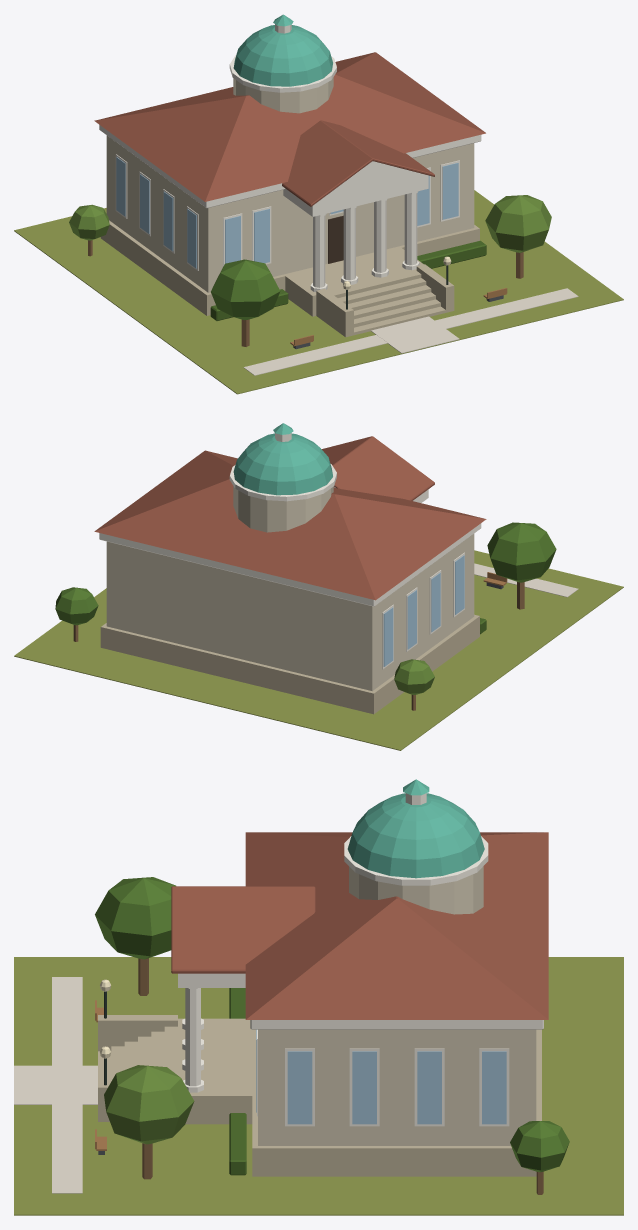
File: library.glb
The picture shows the model from 3 angles, top to bottom: view 1: azimuth 30°, elevation 25°; view 2: azimuth 150°, elevation 25°; view 3: azimuth 270°, elevation 25°; orthographic projection. The views are drawn at different scales.
Visible parts, largest first — view 1: library; view 2: library; view 3: library.
Part boxes in pixels (x1,y1,x2,y2): library: (14, 14, 623, 394); library: (14, 423, 623, 750); library: (14, 779, 623, 1215).
Bounding box in the file's own units: 32 × 17.8 × 32.
